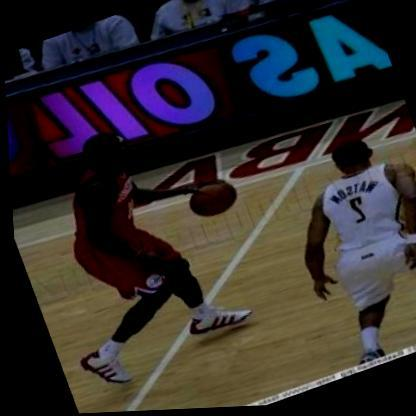basketball: (173, 169, 245, 232)
